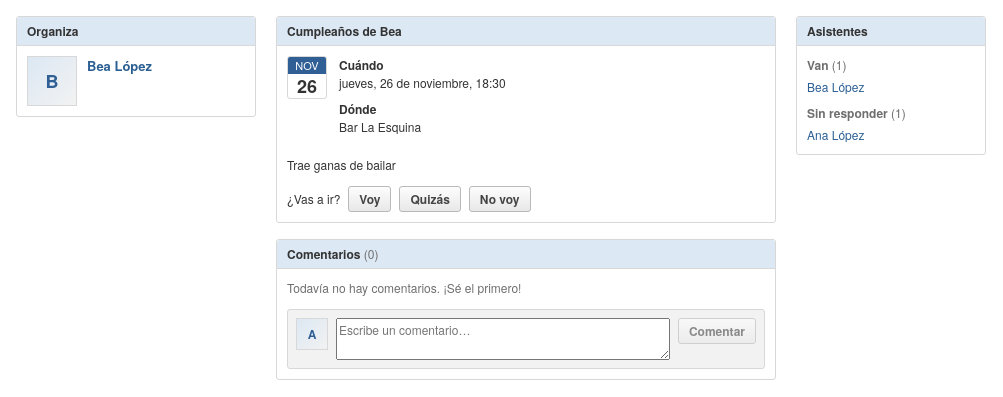
Test: Events › lets an invitee answer and shows who is going
Expected: the heading "Cumpleaños de Bea" is shown, [287,22,402,40]
Expected: the heading "Sin responder (1)" is shown, [807,104,906,122]
Click the button "Voy".
click(370, 199)  # box [348,186,392,212]
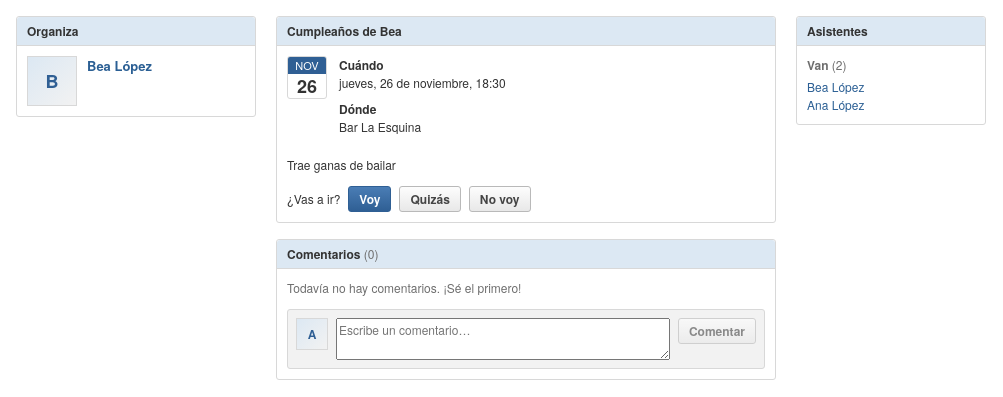
Now the heading "Van (2)" is shown, box [807,56,846,74]
